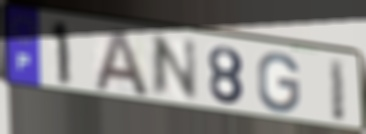1: (47, 19, 75, 88)
8: (207, 45, 247, 107)
A: (92, 27, 153, 100)
G: (256, 50, 302, 115)
I: (326, 56, 348, 124)
N: (149, 34, 201, 102)
